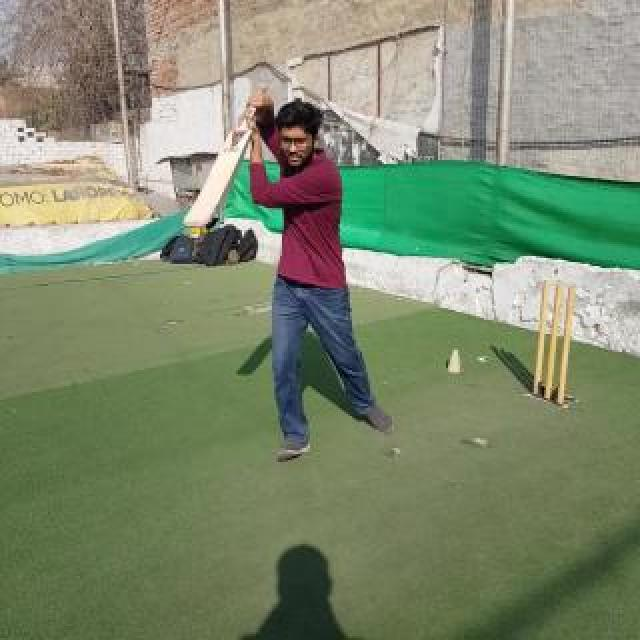bat: (184, 82, 268, 228)
